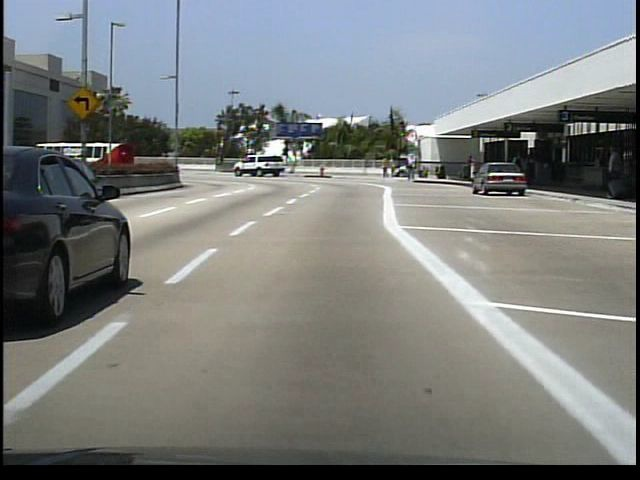person: (601, 138, 624, 203), (510, 149, 529, 189), (464, 154, 476, 183), (407, 151, 417, 183), (381, 154, 390, 179), (389, 156, 397, 179)
